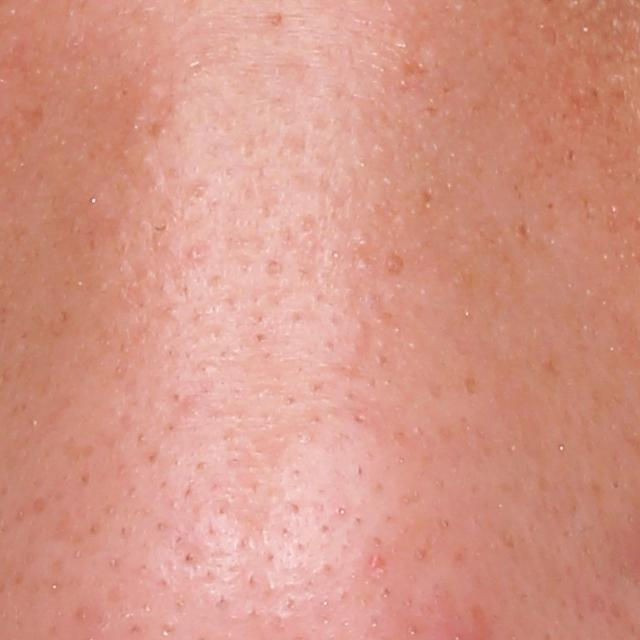melasma: (266, 7, 287, 33)
